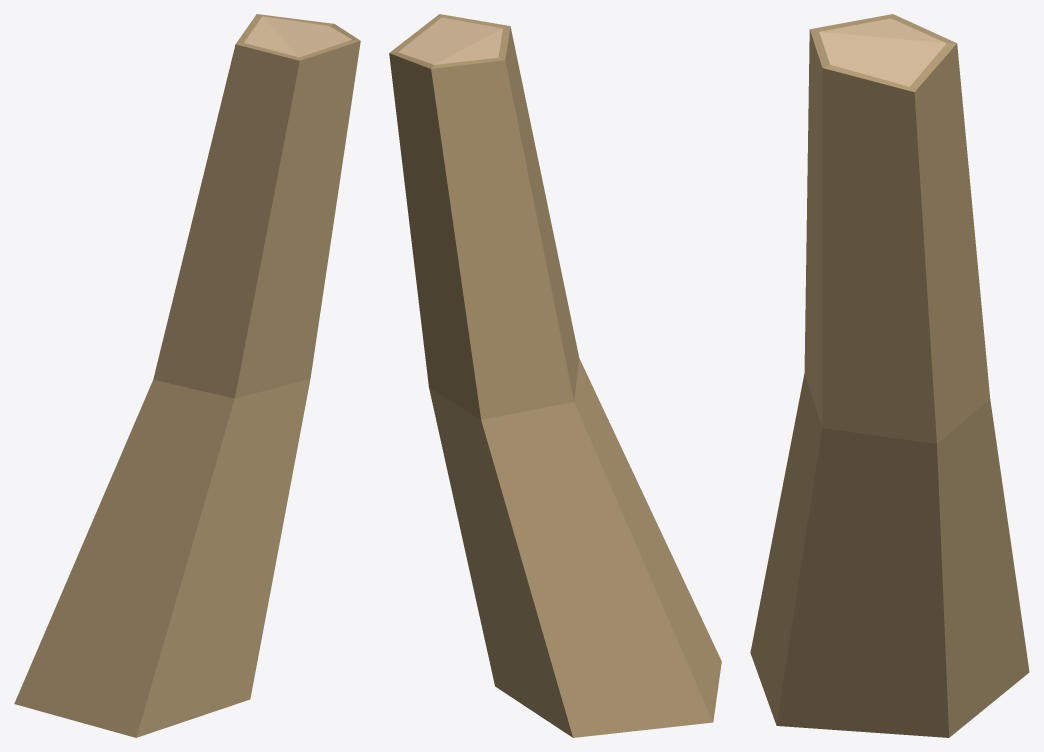
The model's file is Random_Stump_01.fbx.
The picture shows the model from 3 angles, left to right: view 1: azimuth 30°, elevation 25°; view 2: azimuth 150°, elevation 25°; view 3: azimuth 270°, elevation 25°; orthographic projection. The views are drawn at different scales.
Parts seen in each view (by area): view 1: Random_Stump_01; view 2: Random_Stump_01; view 3: Random_Stump_01.
Boxes of the visible parts, <box> form: Random_Stump_01: <box>14,14,360,737</box>; Random_Stump_01: <box>389,14,721,737</box>; Random_Stump_01: <box>750,14,1029,737</box>.
Size of the model in its own units: 78.15 by 141 by 48.76.
